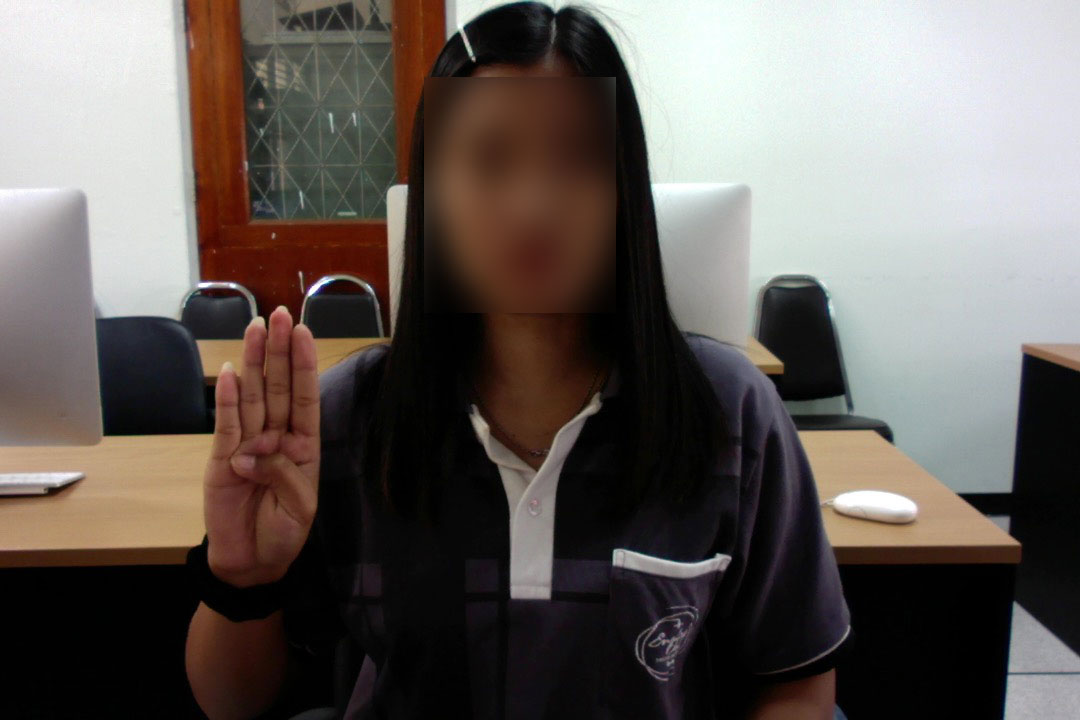bor: (196, 300, 327, 585)
